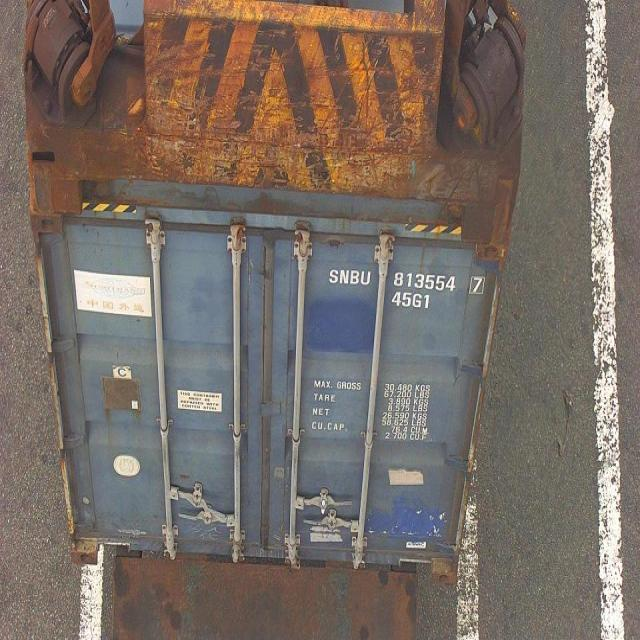ISO: (392, 292, 432, 310)
container_number: (327, 261, 484, 294)
